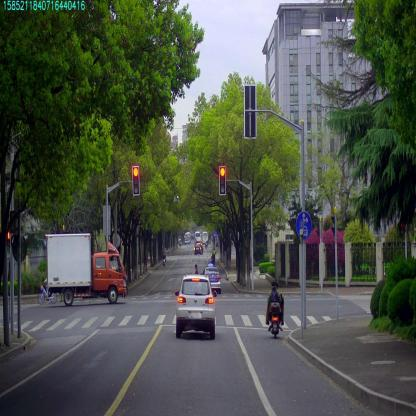traffic-light: (132, 167, 139, 194), (220, 167, 226, 194)
